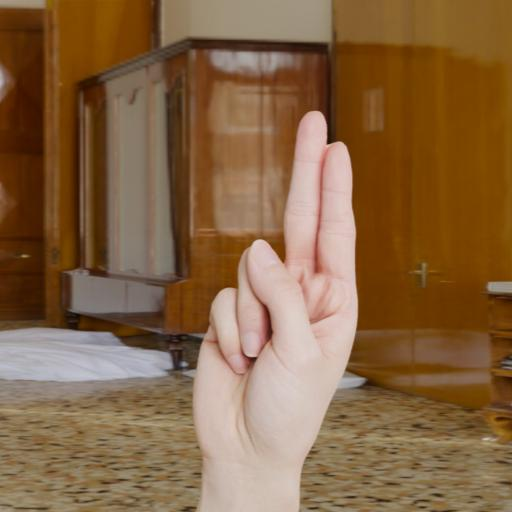U: (178, 104, 381, 510)
